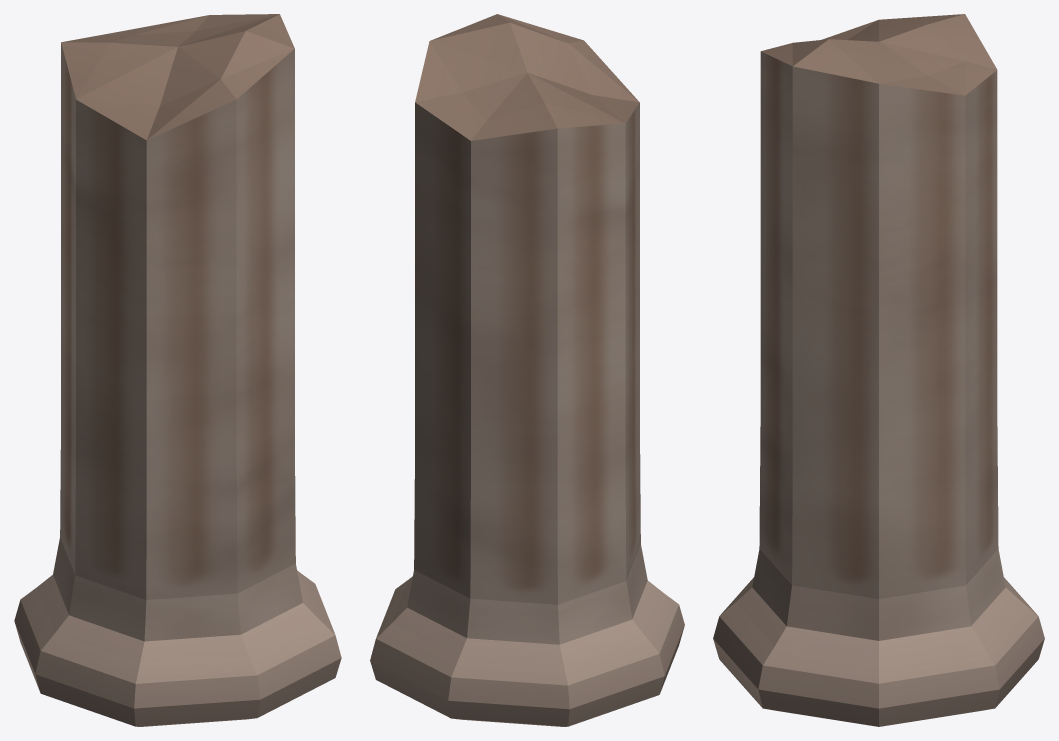
The model's file is F_Column_2.fbx.
The picture shows the model from 3 angles, left to right: view 1: azimuth 30°, elevation 25°; view 2: azimuth 150°, elevation 25°; view 3: azimuth 270°, elevation 25°; orthographic projection. The views are drawn at different scales.
Parts seen in each view (by area): view 1: F_Column_2; view 2: F_Column_2; view 3: F_Column_2.
Part boxes in pixels (x1,y1,x2,y2): F_Column_2: (14,14,341,726); F_Column_2: (370,14,684,726); F_Column_2: (713,14,1044,726).
Size of the model in its own units: 2.57 by 5.56 by 2.57.
Materials: 1 (1 with a texture image).
